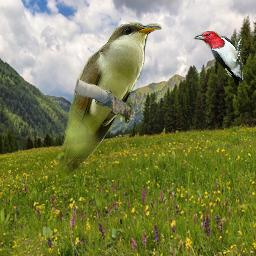Cuckoo: (52, 22, 162, 183)
Woodpecker: (193, 31, 245, 86)
